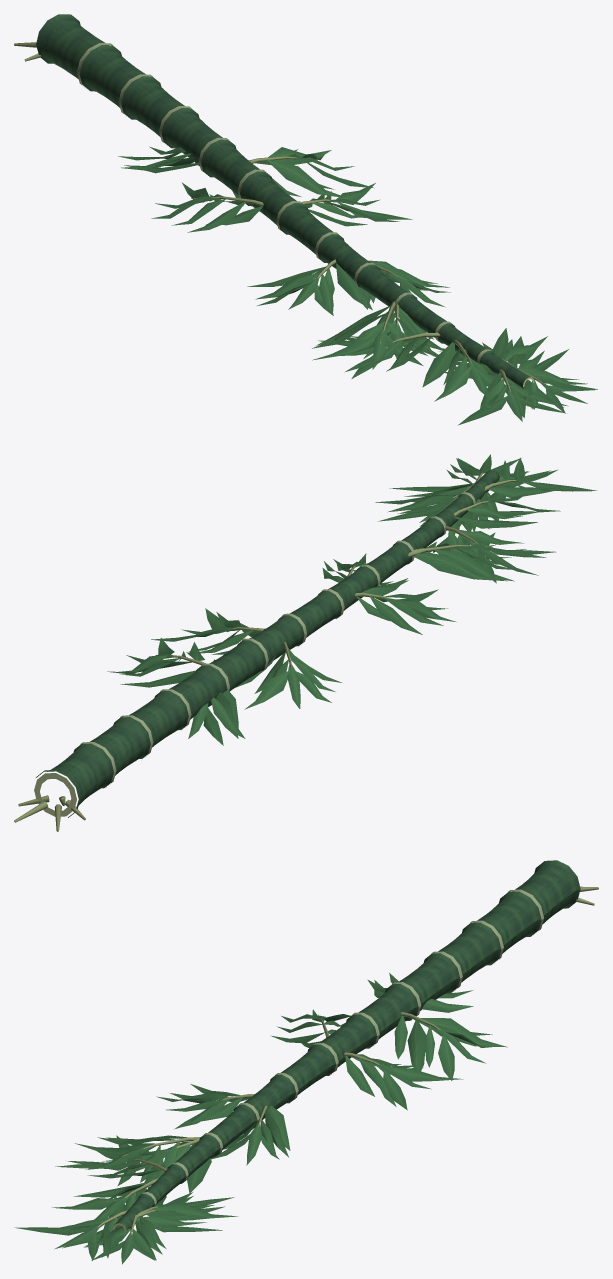
File: nyanisyarud-bamboo-fallen.glb
The picture shows the model from 3 angles, top to bottom: view 1: azimuth 30°, elevation 25°; view 2: azimuth 150°, elevation 25°; view 3: azimuth 330°, elevation 25°; orthographic projection.
Parts seen in each view (by area): view 1: Silken bamboo leaves, Jade bamboo, Raised bamboo nodes, Branches; view 2: Silken bamboo leaves, Jade bamboo, Branches, Raised bamboo nodes, Pale bamboo cut rim; view 3: Silken bamboo leaves, Jade bamboo, Branches, Raised bamboo nodes.
Boxes of the visible parts, bbox=[...] form: Silken bamboo leaves: bbox=[118, 146, 597, 425]; Jade bamboo: bbox=[36, 14, 530, 387]; Raised bamboo nodes: bbox=[77, 43, 491, 363]; Branches: bbox=[14, 42, 542, 391]; Silken bamboo leaves: bbox=[107, 454, 597, 745]; Jade bamboo: bbox=[36, 469, 499, 817]; Branches: bbox=[14, 472, 517, 831]; Raised bamboo nodes: bbox=[80, 492, 475, 787]; Pale bamboo cut rim: bbox=[34, 773, 76, 816]; Silken bamboo leaves: bbox=[14, 973, 507, 1264]; Jade bamboo: bbox=[114, 860, 580, 1230]; Branches: bbox=[96, 886, 598, 1234]; Raised bamboo nodes: bbox=[140, 889, 543, 1206].
Size of the model in its own units: 1.86 by 0.3768 by 7.07.
5 materials, 2 textured.
